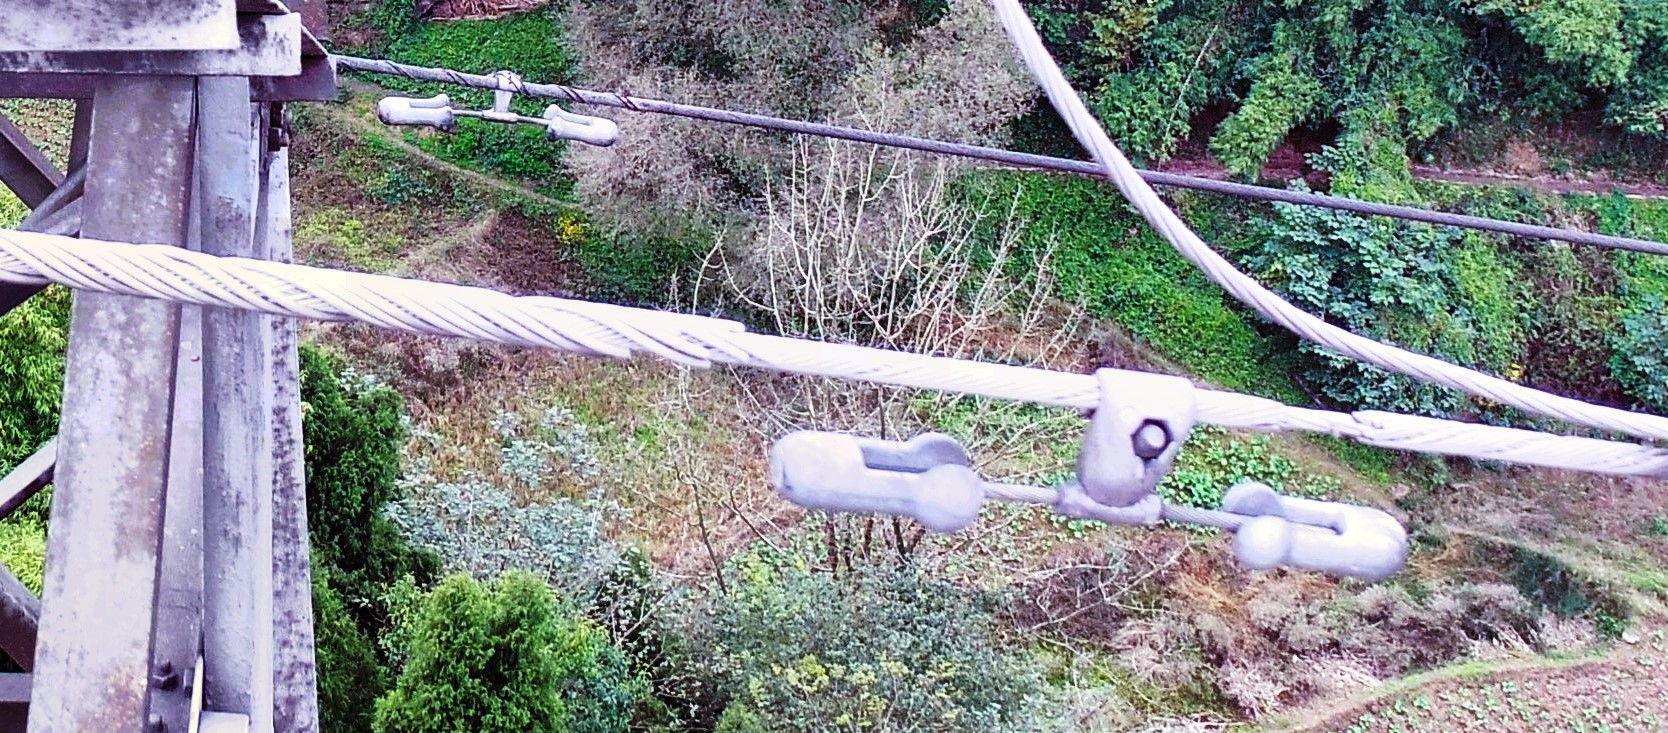Shockproof hammer: (727, 322, 1419, 594), (367, 47, 623, 159)
